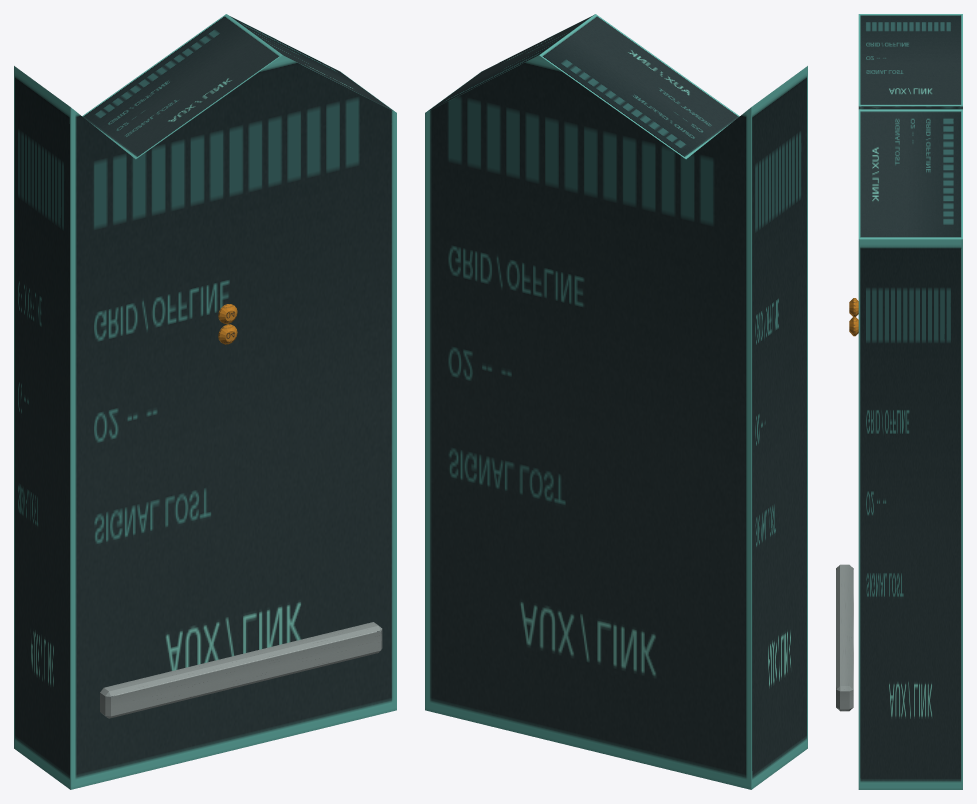
The model's file is wall_shard_a_LOD0.obj.
3 views of the same model, side by side, from view 1: azimuth 30°, elevation 25°; view 2: azimuth 150°, elevation 25°; view 3: azimuth 270°, elevation 25° (orthographic). The views are drawn at different scales.
Visible parts, largest first — view 1: L02_wall_shard_a_LOD0; view 2: L02_wall_shard_a_LOD0; view 3: L02_wall_shard_a_LOD0.
Boxes of the visible parts, x1=… form: L02_wall_shard_a_LOD0: x1=14, y1=14, x2=396, y2=789; L02_wall_shard_a_LOD0: x1=425, y1=14, x2=807, y2=789; L02_wall_shard_a_LOD0: x1=836, y1=14, x2=962, y2=789.
Bounding box in the file's own units: 1 × 2 × 0.365.
1 material, 1 textured.
